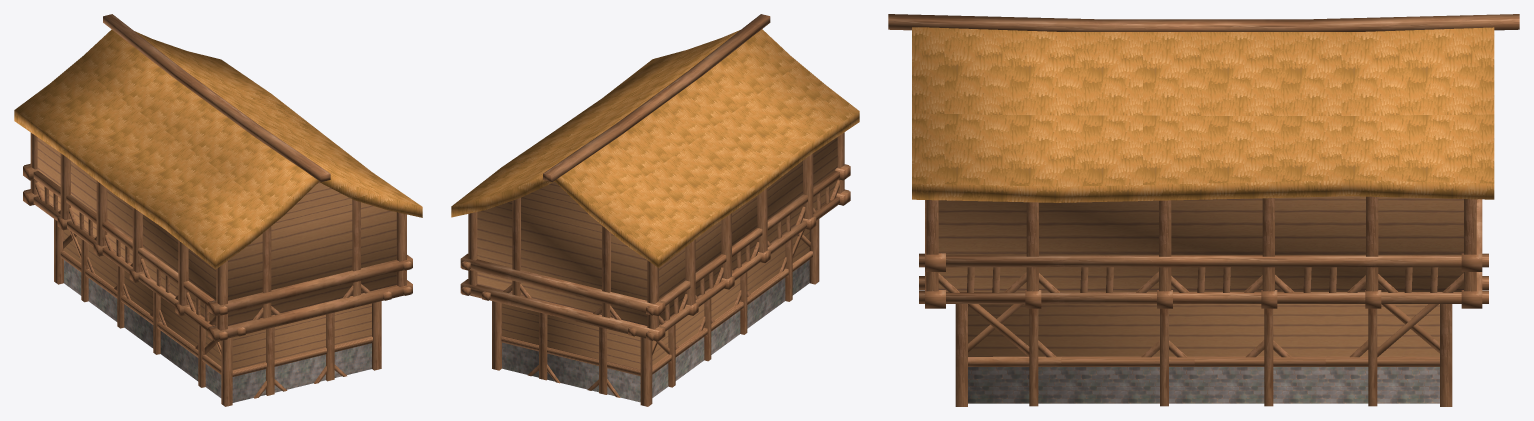
Rendered from Building_11_2.fbx.
The picture shows the model from 3 angles, left to right: view 1: azimuth 30°, elevation 25°; view 2: azimuth 150°, elevation 25°; view 3: azimuth 270°, elevation 25°; orthographic projection. The views are drawn at different scales.
Parts seen in each view (by area): view 1: Building_11_2; view 2: Building_11_2; view 3: Building_11_2.
Boxes of the visible parts, x1,y1,x2,y2 form: Building_11_2: (14, 14, 422, 406); Building_11_2: (451, 14, 859, 406); Building_11_2: (888, 14, 1519, 406).
Size of the model in its own units: 7.51 by 8 by 13.71.
